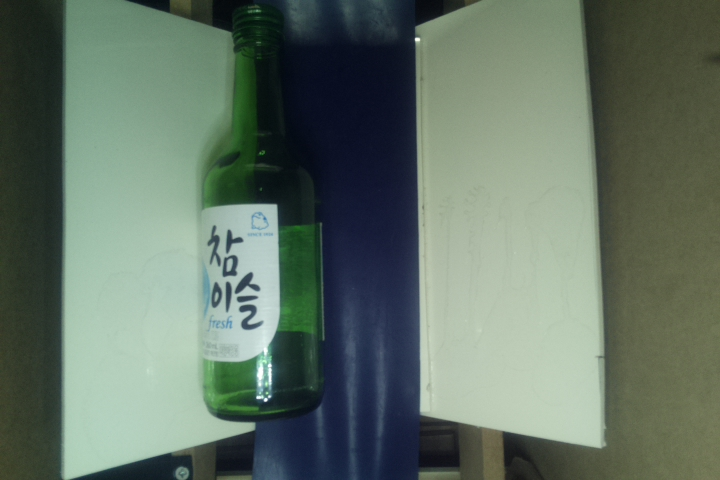soju: (196, 1, 334, 421)
